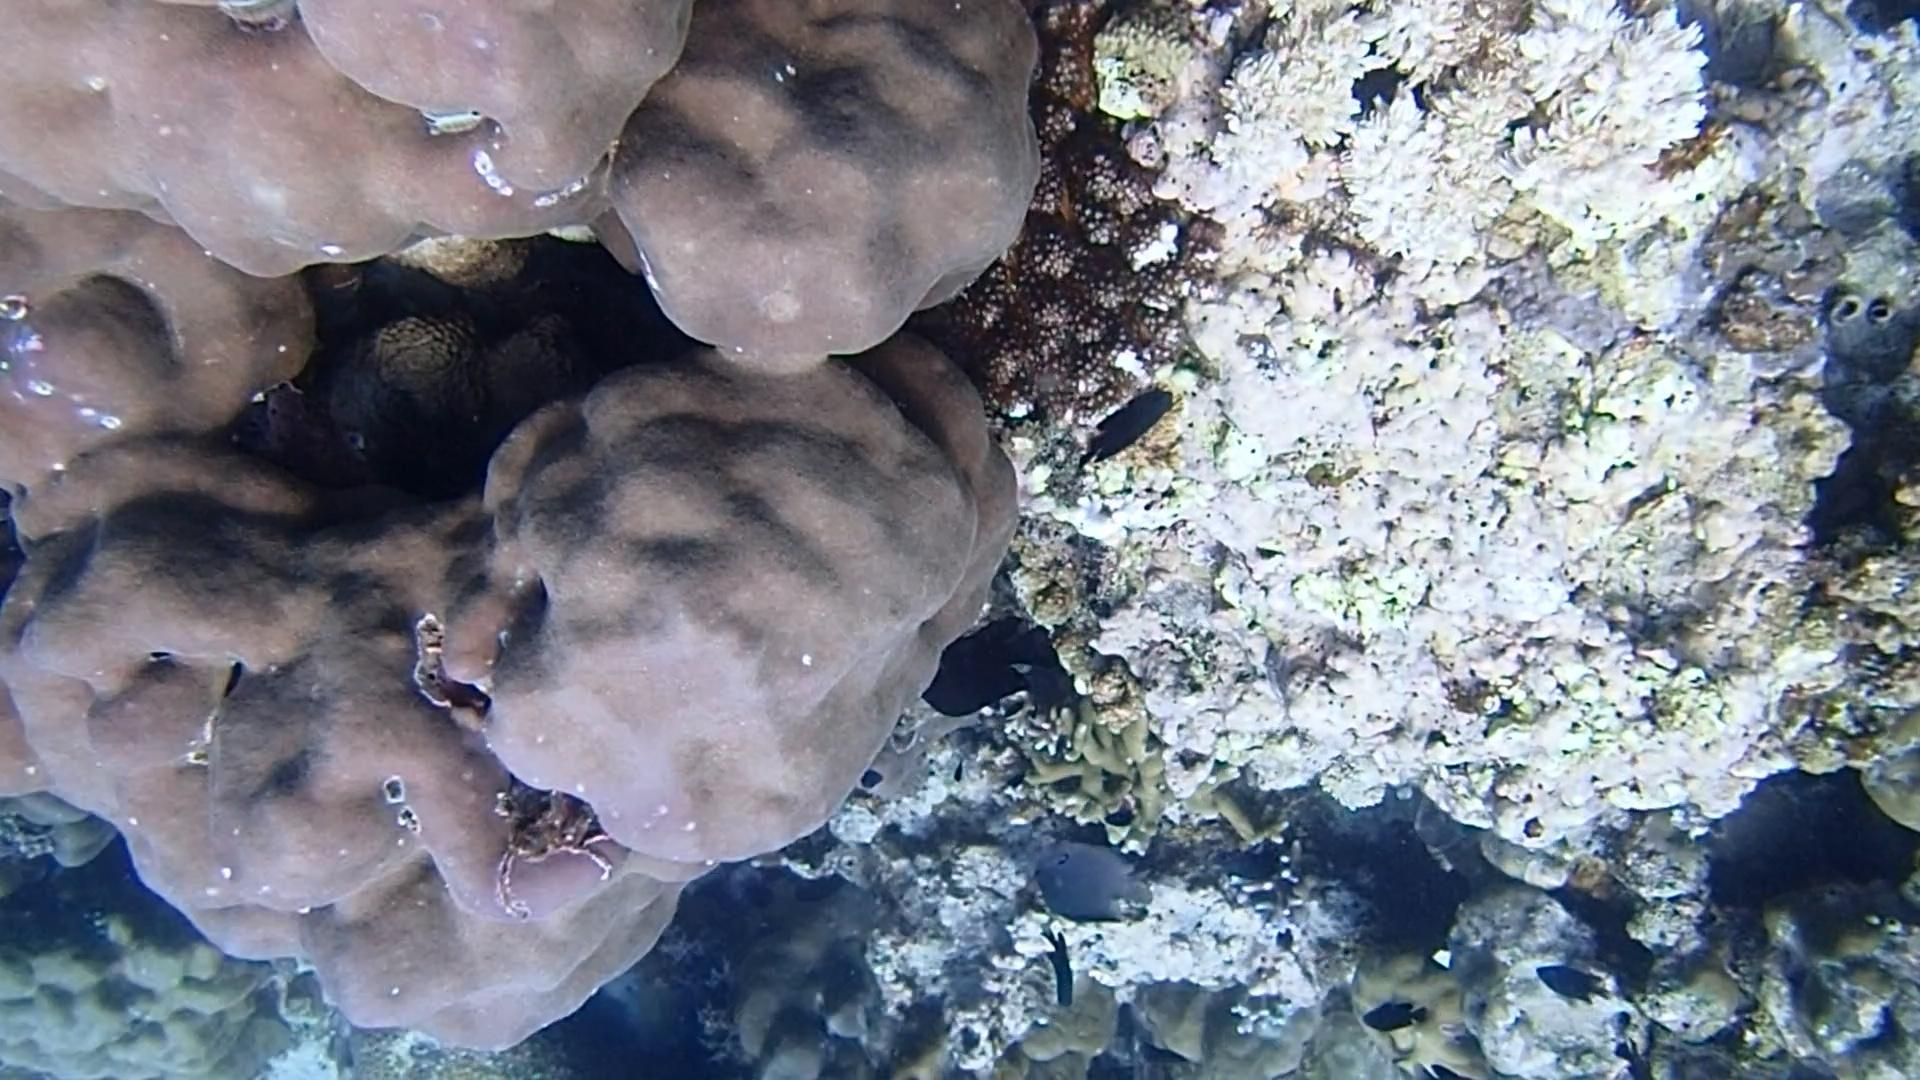Dark Fish: (916, 603, 1065, 728), (1075, 385, 1185, 476), (1033, 922, 1085, 1014), (1538, 956, 1614, 1018), (1358, 990, 1432, 1048), (1215, 837, 1294, 890)
Light Fish - Dark Fin: (1030, 839, 1159, 934)
